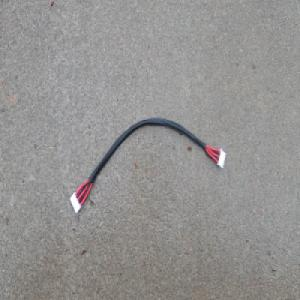Wire: (68, 116, 227, 216)
